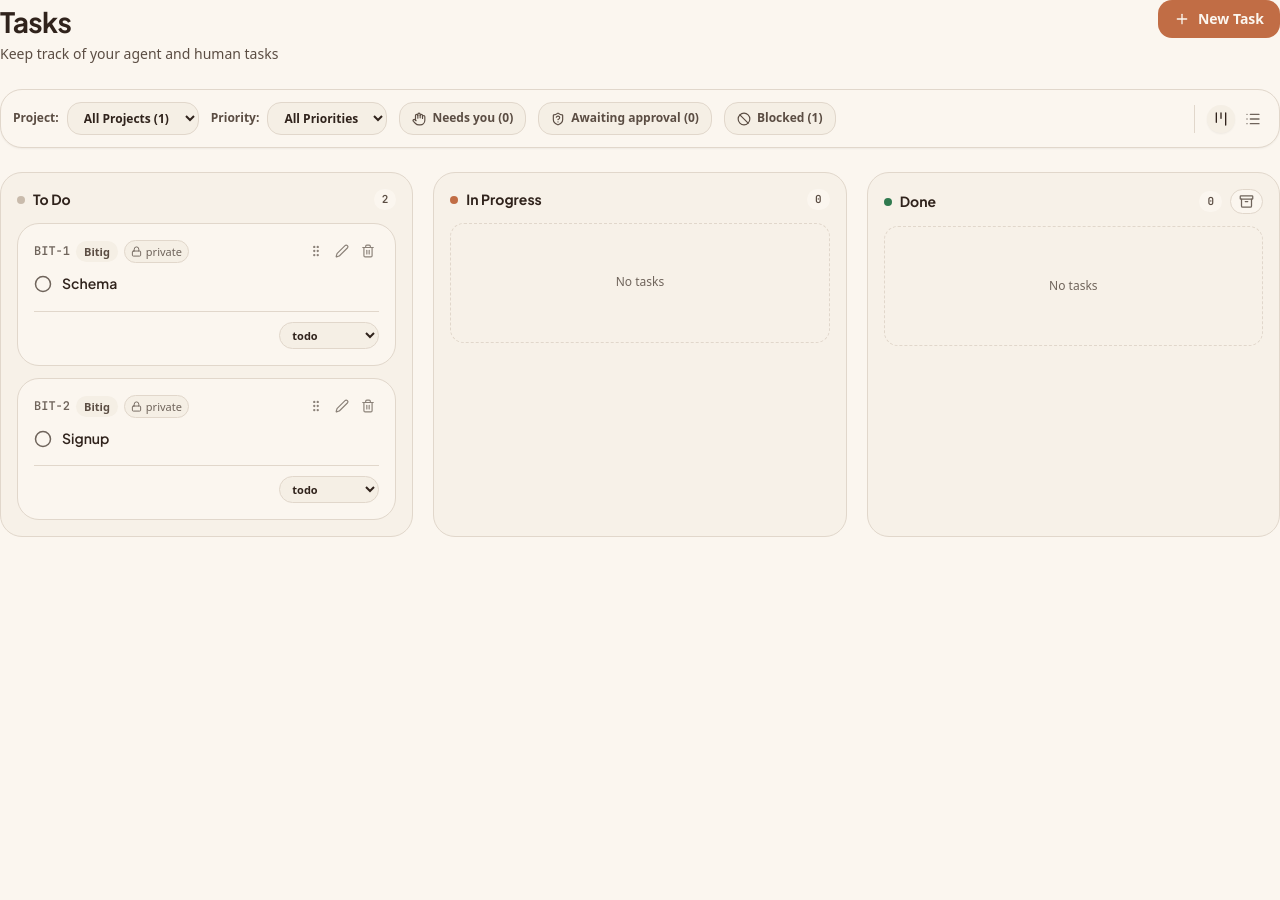
Test case: completing a task with unfinished dependencies › leaves the task alone when the person cancels
This screenshot has width=1280, height=900.
Check: the button "Signup" is shown, box [62,428,110,449]
Click the button titled "Mark as Done" below "BIT-2" at (43, 438), box [34,430,52,448]
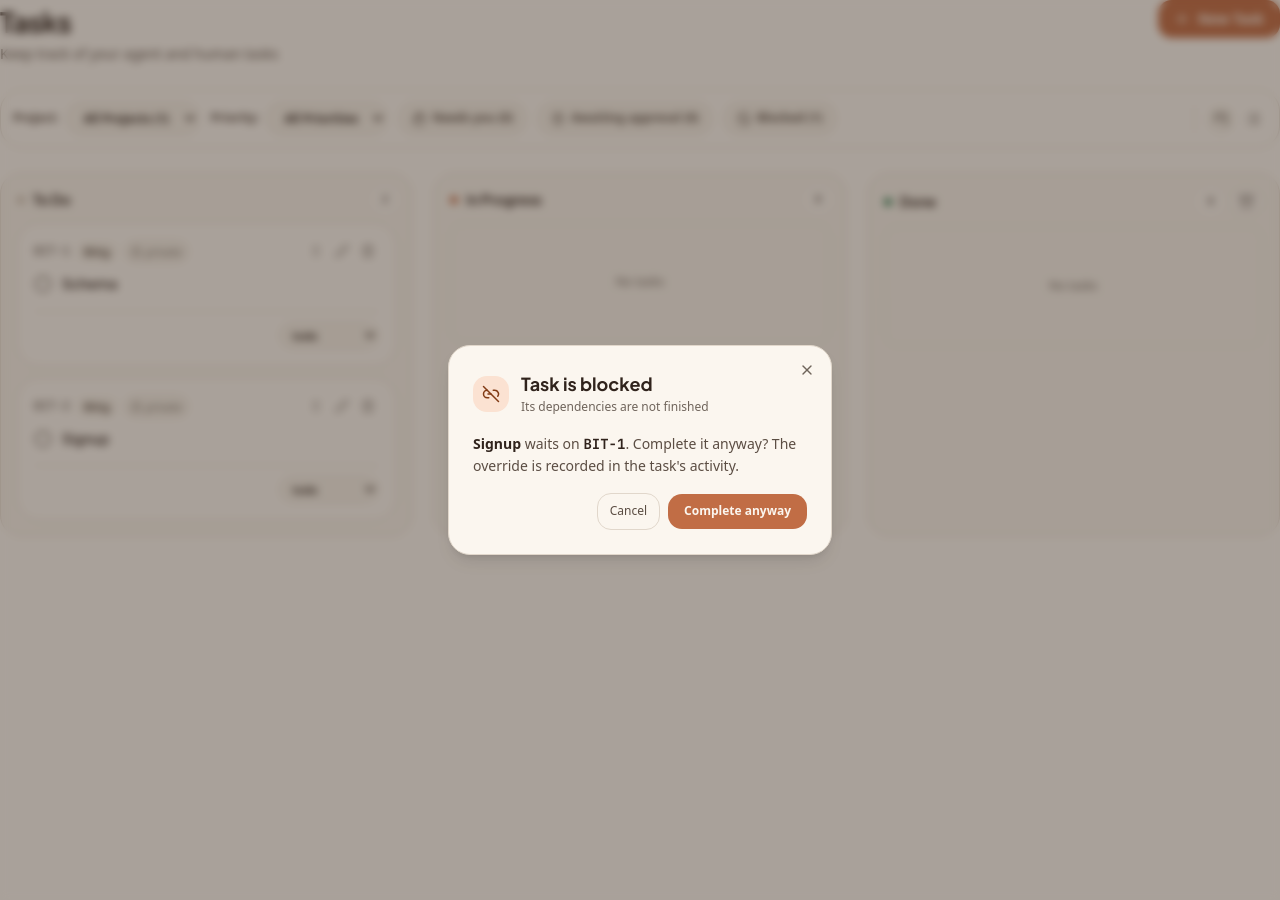
Click the button "Cancel" at (628, 511), box [597,493,660,530]
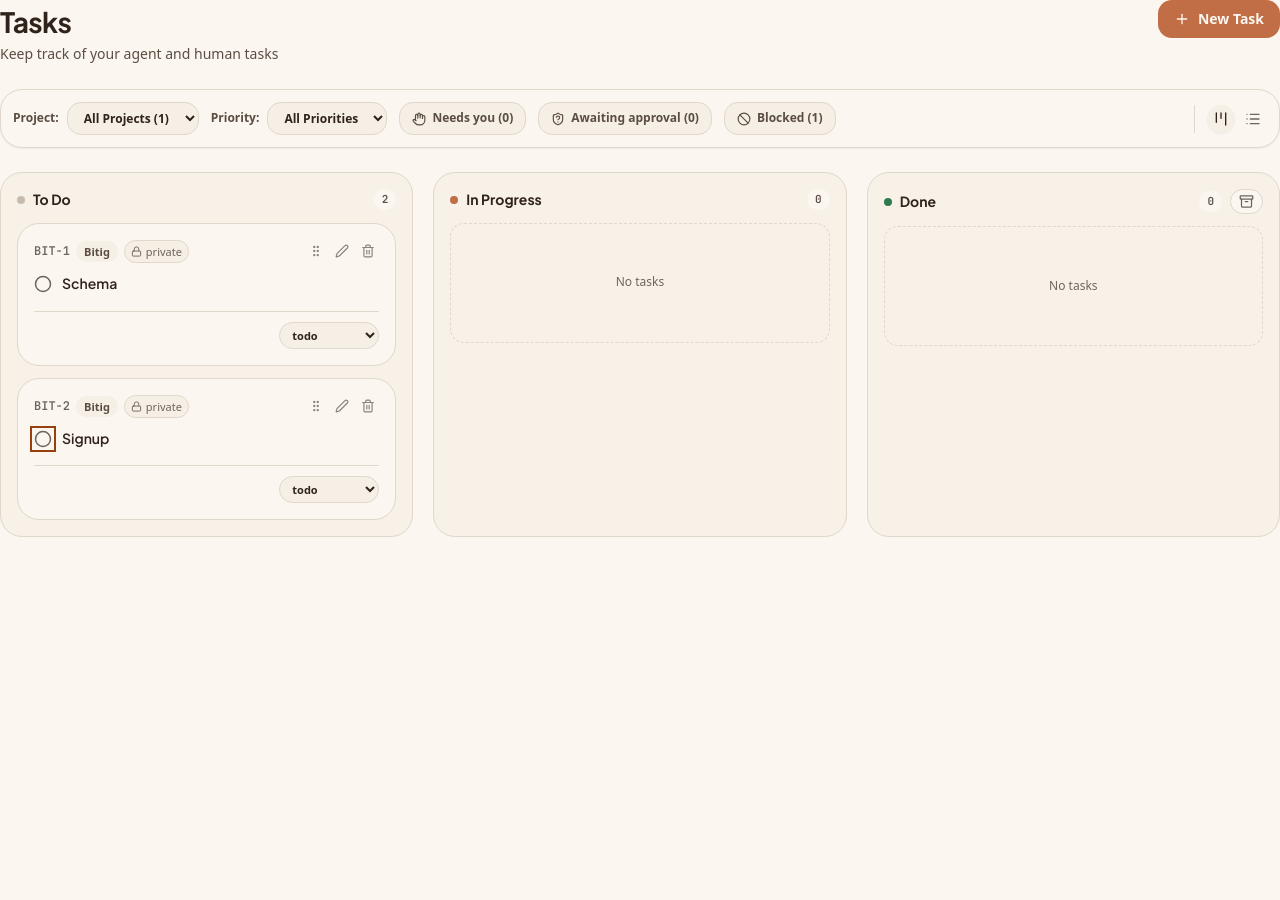
Check: the heading "Task is blocked" is gone
